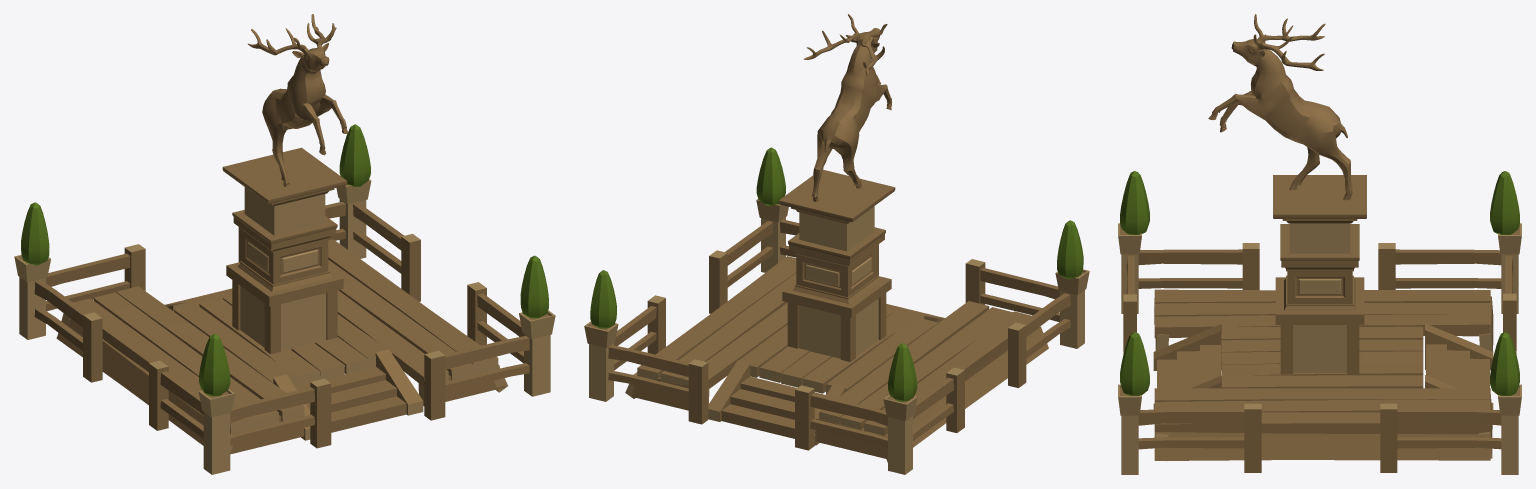
The model's file is town_center.gltf.
3 views of the same model, side by side, from view 1: azimuth 30°, elevation 25°; view 2: azimuth 150°, elevation 25°; view 3: azimuth 270°, elevation 25° (orthographic). The views are drawn at different scales.
Visible parts, largest first — view 1: TownCenter_FirstAge_Level3; view 2: TownCenter_FirstAge_Level3; view 3: TownCenter_FirstAge_Level3.
Part boxes in pixels (bbox=[...]): TownCenter_FirstAge_Level3: bbox=[14, 14, 555, 474]; TownCenter_FirstAge_Level3: bbox=[584, 14, 1089, 474]; TownCenter_FirstAge_Level3: bbox=[1118, 14, 1521, 474].
Size of the model in its own units: 233 by 232 by 229.
